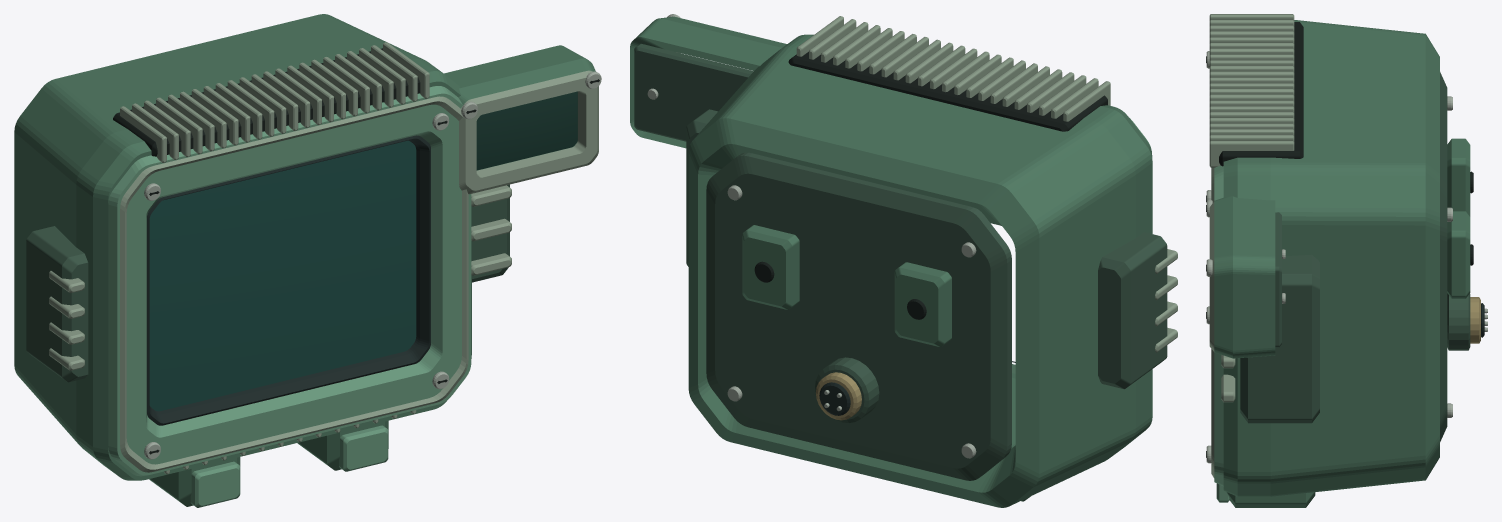
The model's file is WeaponPanel.glb.
3 views of the same model, side by side, from view 1: azimuth 30°, elevation 25°; view 2: azimuth 150°, elevation 25°; view 3: azimuth 270°, elevation 25° (orthographic). The views are drawn at different scales.
Parts seen in each view (by area): view 1: Casing, Screen_Display, Counter_Display; view 2: Casing; view 3: Casing.
Boxes of the visible parts, x1=… form: Casing: x1=14, y1=14, x2=601, y2=507; Screen_Display: x1=149, y1=140, x2=416, y2=411; Counter_Display: x1=476, y1=91, x2=577, y2=170; Casing: x1=630, y1=14, x2=1177, y2=507; Casing: x1=1206, y1=14, x2=1487, y2=507.
Bounding box in the file's own units: 0.3528 × 0.25 × 0.1665.
